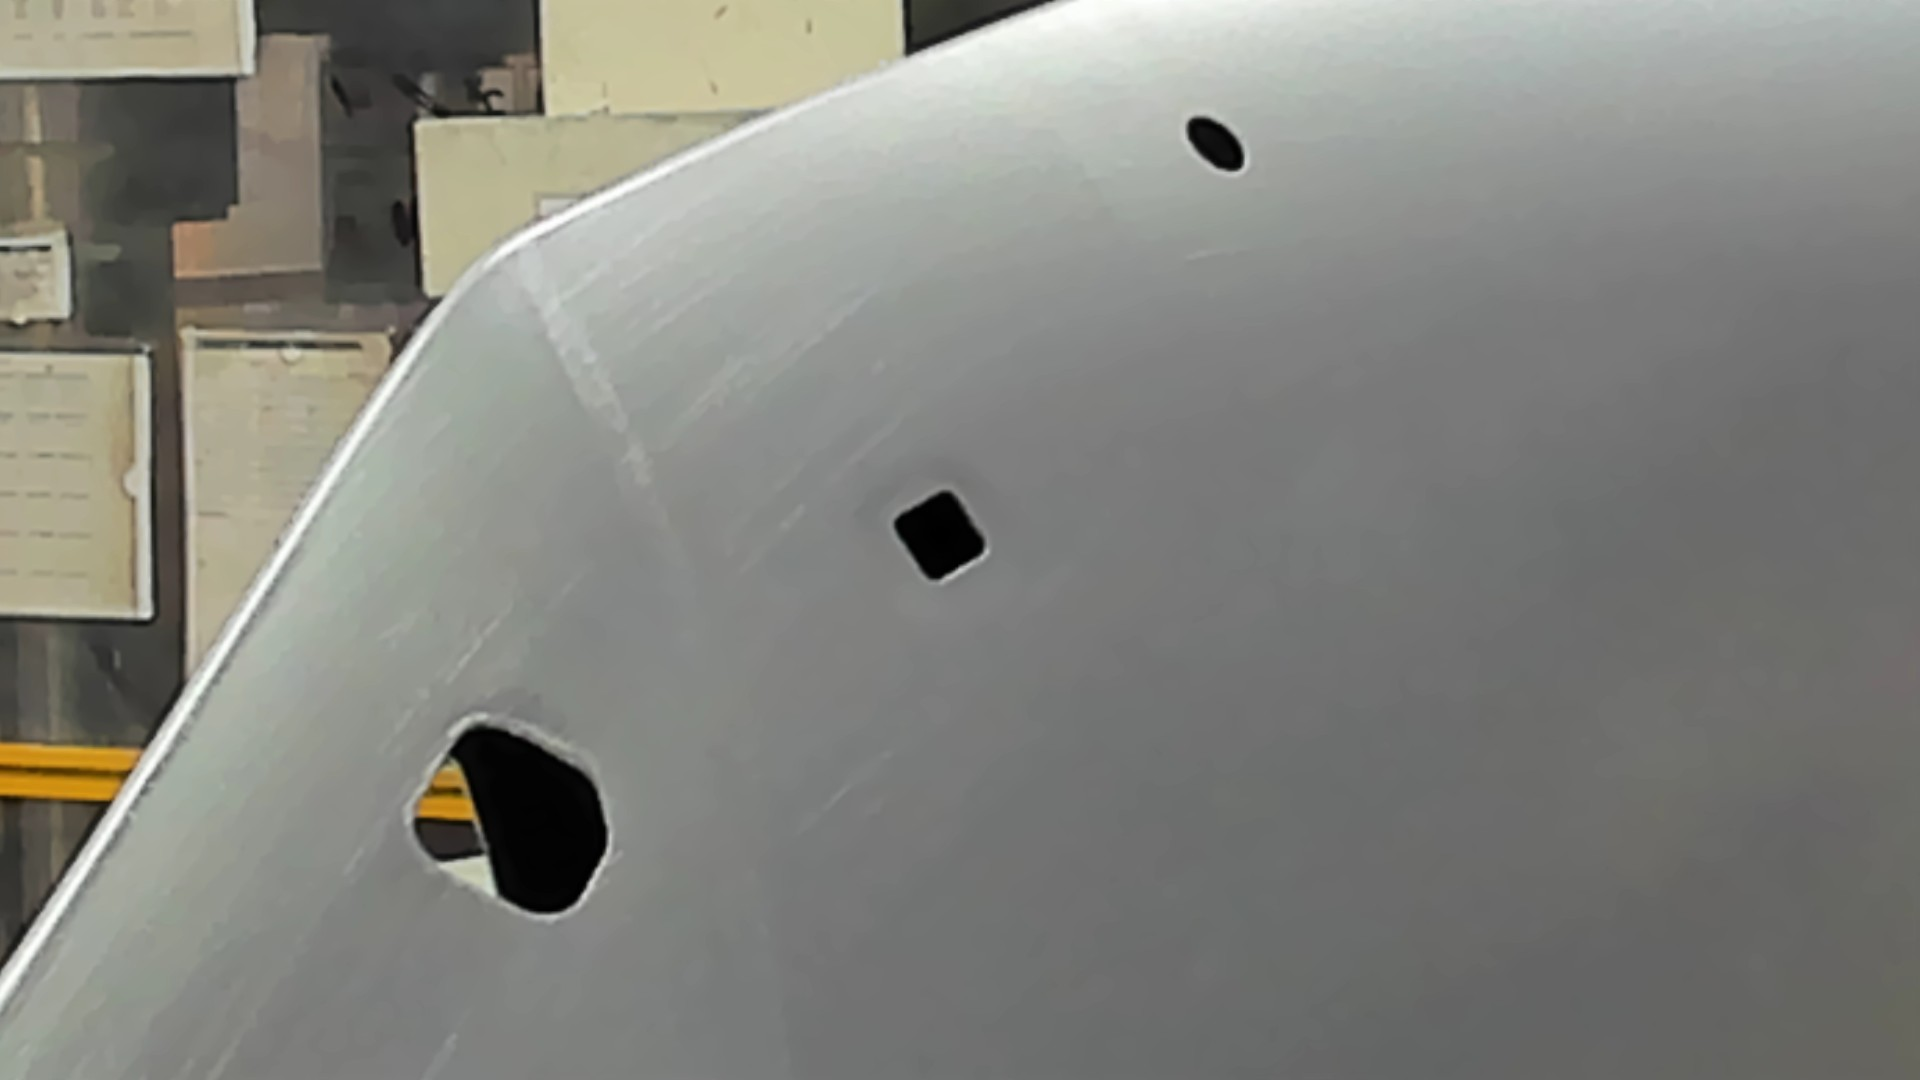chico: (1182, 109, 1251, 178)
grande: (404, 713, 617, 926)
mediano: (887, 485, 992, 585)
